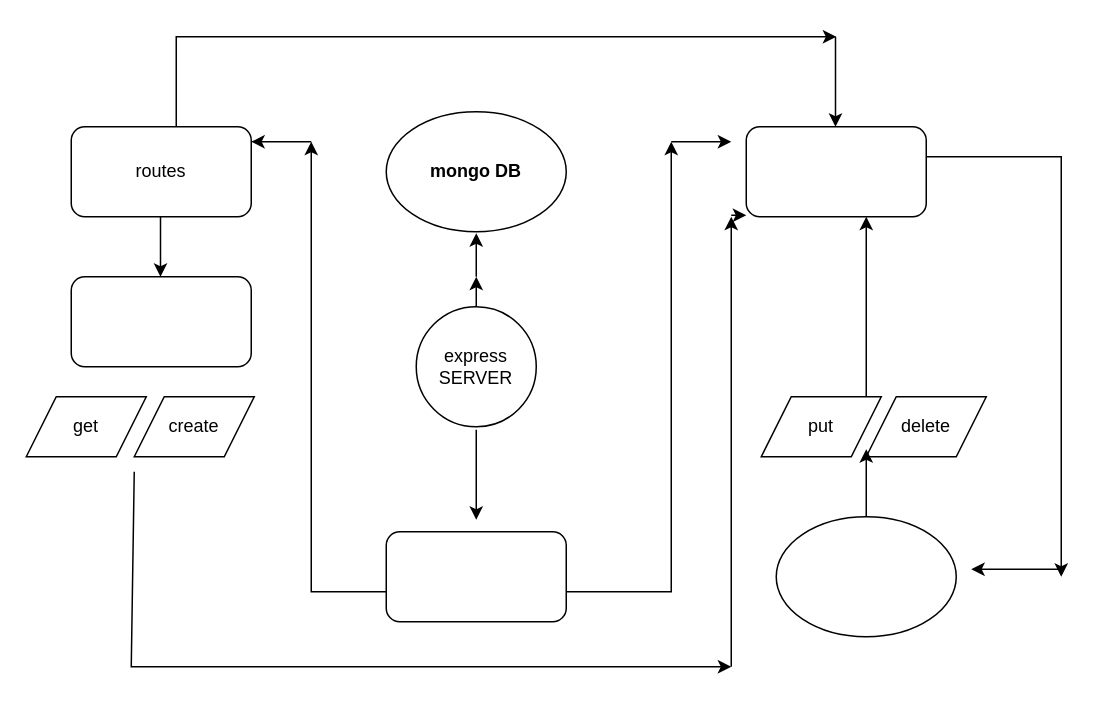
Some shapes in this 1100 by 705 pixel diagram are drawn without their labels. Each missing label, with the centre of its shape:
"authentication" belongs at point (160, 321).
"authorization" belongs at point (865, 576).
"controller" belongs at point (835, 171).
"router" belongs at point (475, 576).
